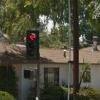Traffic light: (20, 21, 47, 66)
